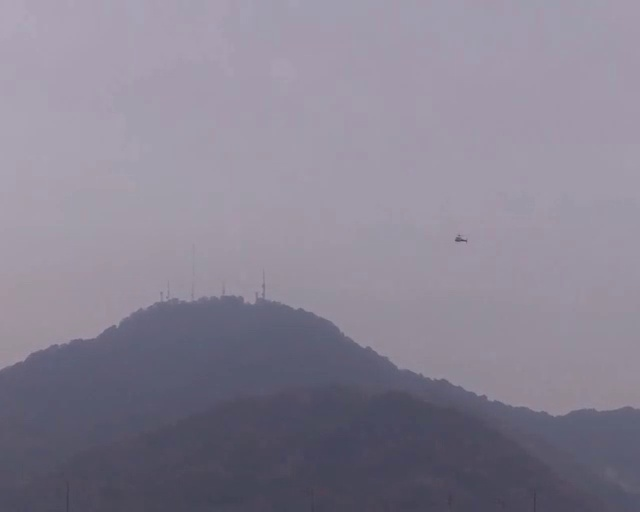HELICOPTER: (455, 233, 468, 242)
